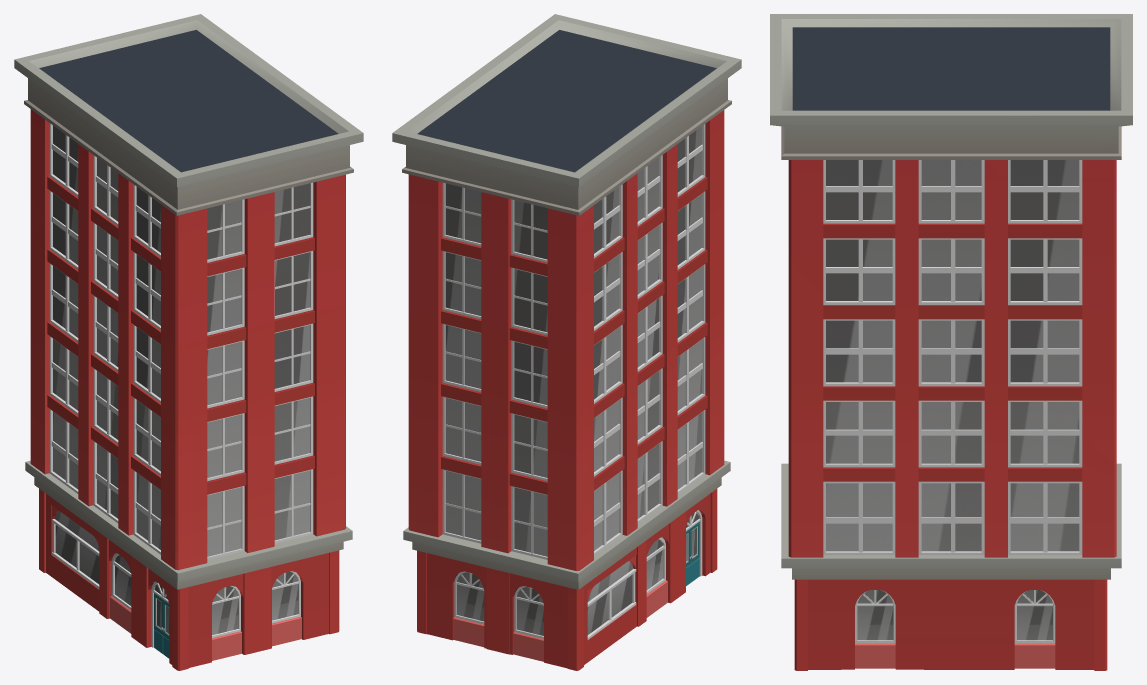
The model's file is Building_27_M.fbx.
The picture shows the model from 3 angles, left to right: view 1: azimuth 30°, elevation 25°; view 2: azimuth 150°, elevation 25°; view 3: azimuth 270°, elevation 25°; orthographic projection. The views are drawn at different scales.
Parts seen in each view (by area): view 1: Building_27_M; view 2: Building_27_M; view 3: Building_27_M.
Boxes of the visible parts, x1=… form: Building_27_M: x1=14, y1=14, x2=363, y2=670; Building_27_M: x1=392, y1=14, x2=741, y2=670; Building_27_M: x1=770, y1=14, x2=1132, y2=670.
Size of the model in its own units: 765 by 1974 by 1155.
